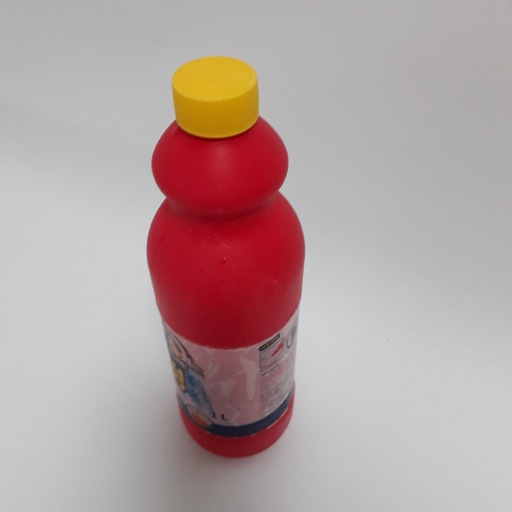Plastic_0: (144, 55, 308, 464)
